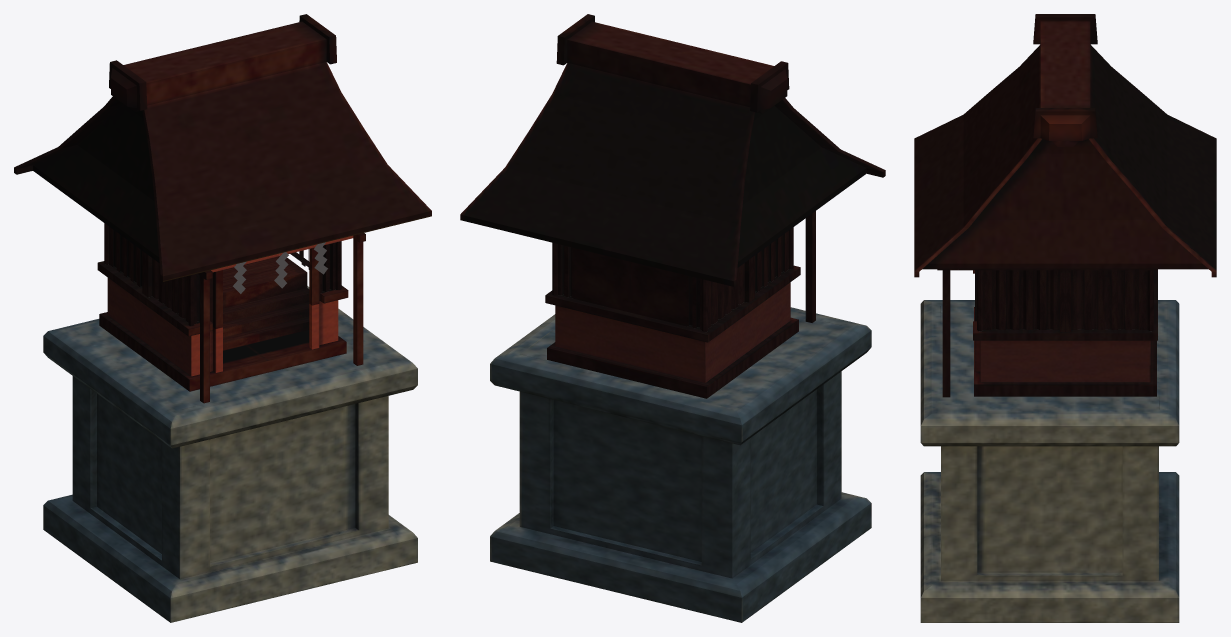
File: shrine_samri_baked.glb
3 views of the same model, side by side, from view 1: azimuth 30°, elevation 25°; view 2: azimuth 150°, elevation 25°; view 3: azimuth 270°, elevation 25° (orthographic).
Visible parts, largest first — view 1: Rock_Stone/Concrete_0; view 2: Rock_Stone/Concrete_0; view 3: Rock_Stone/Concrete_0.
Boxes of the visible parts, left/top/right/bottom form: Rock_Stone/Concrete_0: left=14, top=14, right=431, bottom=622; Rock_Stone/Concrete_0: left=460, top=14, right=885, bottom=622; Rock_Stone/Concrete_0: left=914, top=14, right=1216, bottom=622.
Size of the model in its own units: 1.41 by 2.47 by 1.36.
Materials: 1 (1 with a texture image).
